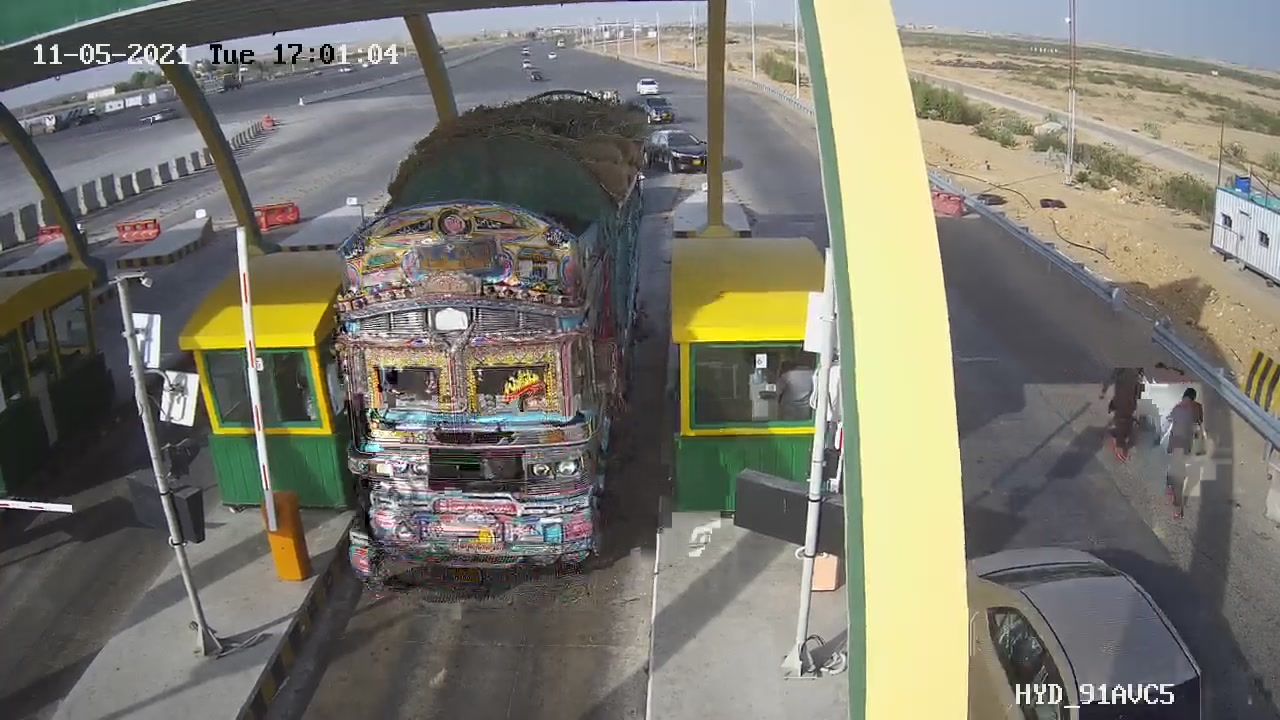F5: (311, 74, 674, 627)
